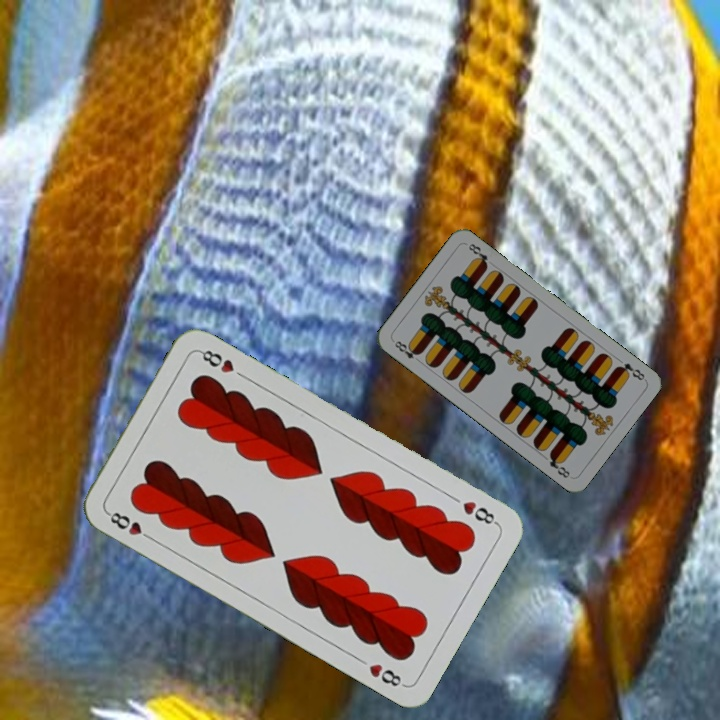E8: (390, 337, 424, 366), (612, 359, 647, 383)
H8: (103, 507, 157, 543), (458, 496, 501, 527)
